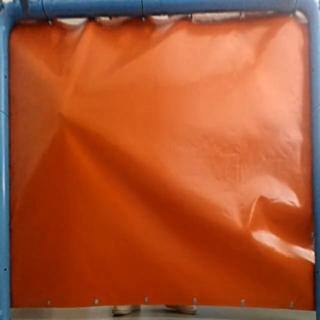Hit-hRxx: (53, 107, 70, 124)
